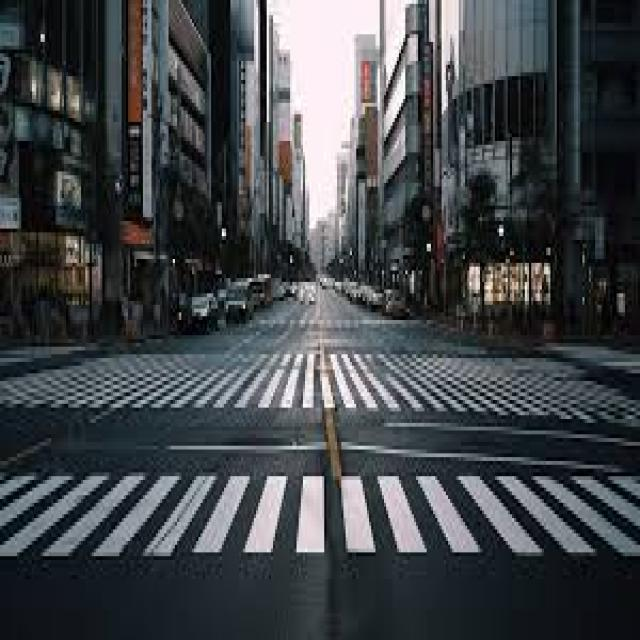Crosswalk: (2, 468, 640, 558), (1, 350, 639, 422)
